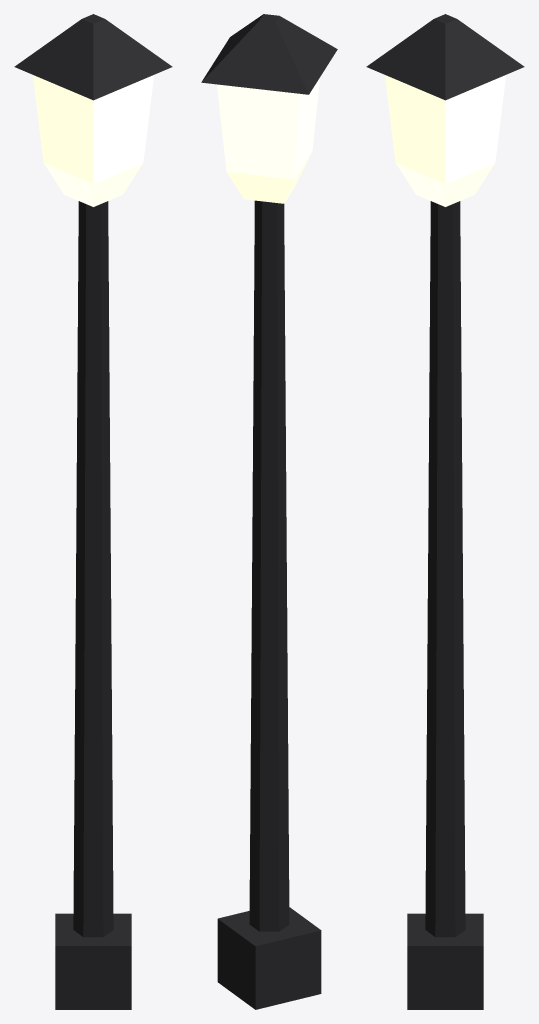
File: SM_LampPost.fbx
3 views of the same model, side by side, from view 1: azimuth 90°, elevation 25°; view 2: azimuth 210°, elevation 25°; view 3: azimuth 270°, elevation 25° (orthographic).
Parts seen in each view (by area): view 1: LampPost; view 2: LampPost; view 3: LampPost.
Part boxes in pixels (bbox=[...]): LampPost: bbox=[14, 14, 172, 1009]; LampPost: bbox=[201, 14, 337, 1009]; LampPost: bbox=[366, 14, 524, 1009].
Size of the model in its own units: 54 by 54 by 366.
